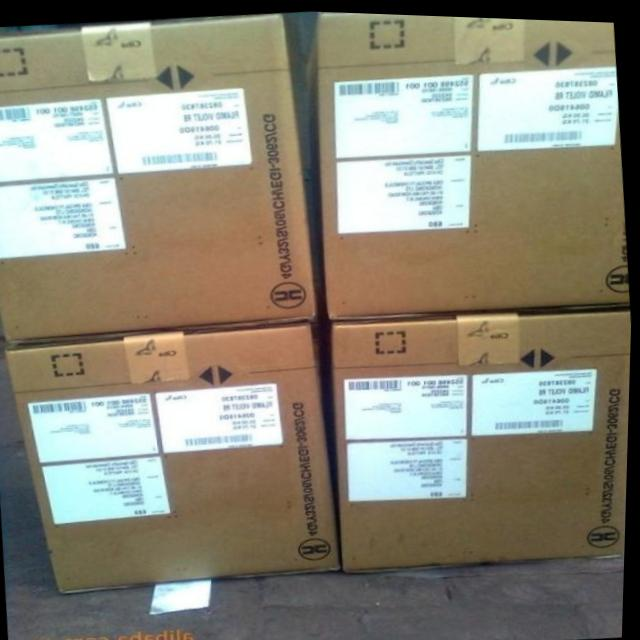box: (0, 14, 318, 343), (309, 9, 631, 316), (9, 323, 346, 592), (336, 308, 632, 568)
